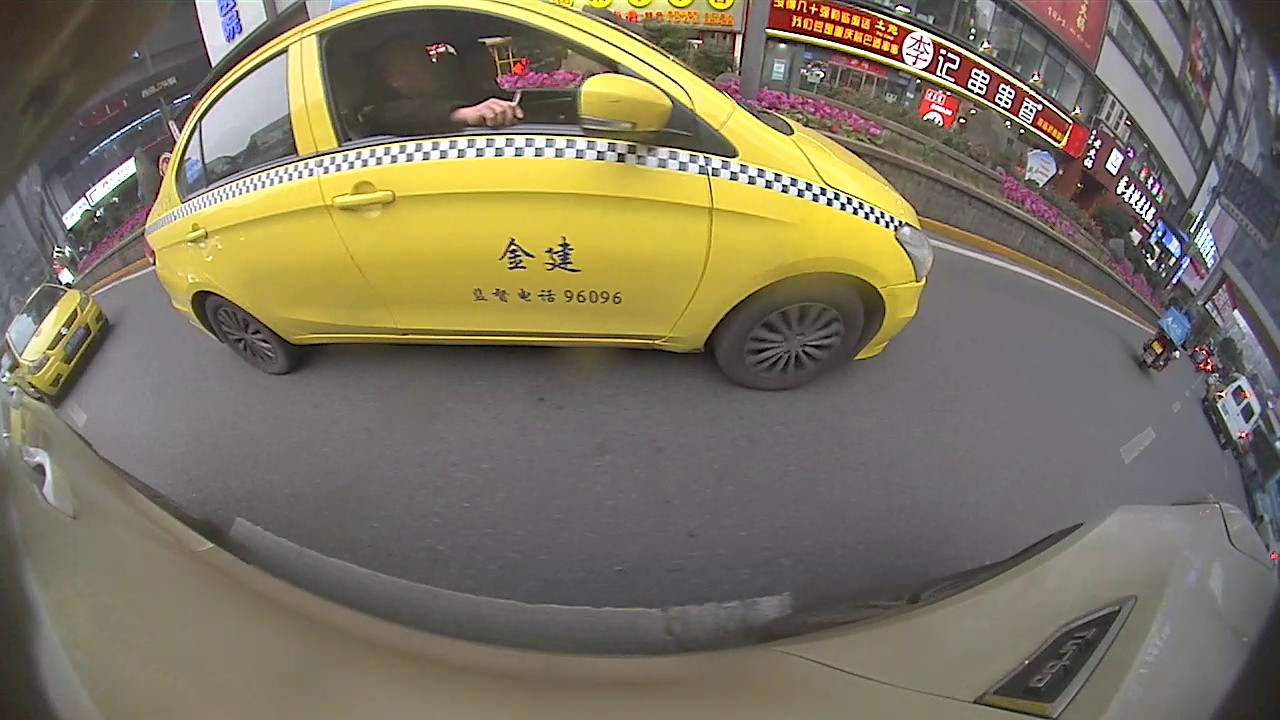car: (140, 1, 936, 393), (2, 279, 111, 400), (1199, 373, 1263, 449)
front: (713, 280, 867, 393)
rear: (199, 296, 292, 375)
rider: (1138, 304, 1199, 375)
